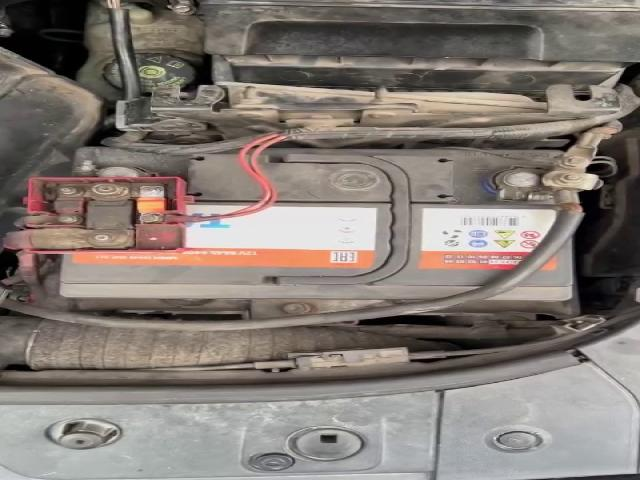accumulator: (5, 146, 602, 302)
